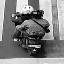motor: (11, 4, 47, 56)
